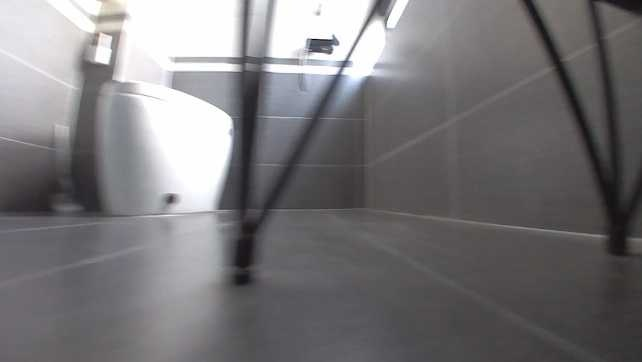toilet: (87, 78, 239, 215)
